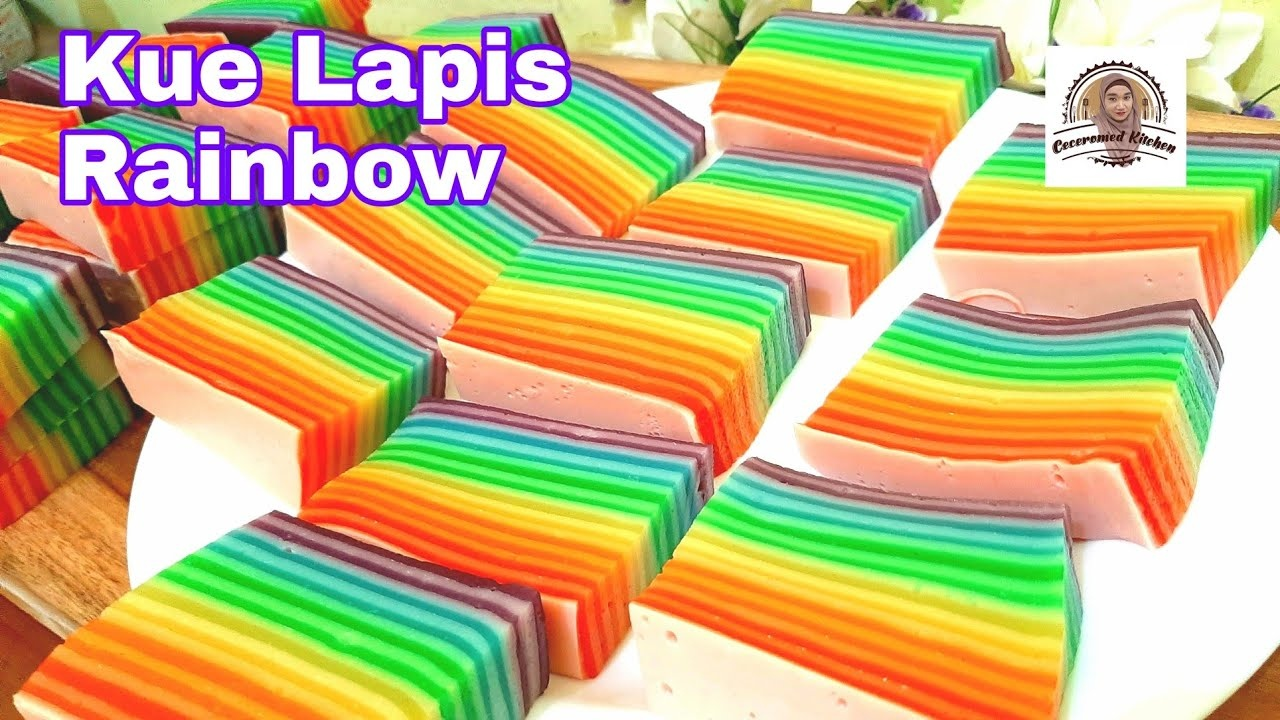kue_lapis_pelangi: (288, 389, 710, 686), (628, 456, 1090, 716), (798, 299, 1226, 542), (94, 248, 451, 513), (444, 235, 818, 470), (625, 154, 948, 317), (708, 8, 1016, 163)
